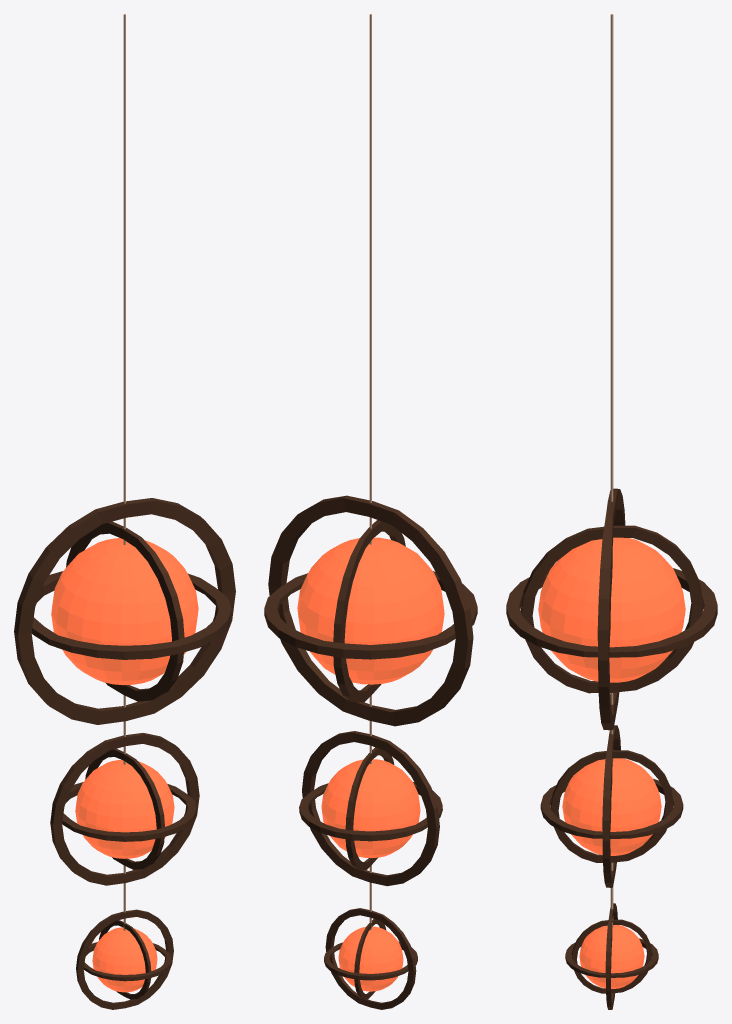
File: Luce 5 Arancio .fbx
The picture shows the model from 3 angles, left to right: view 1: azimuth 30°, elevation 25°; view 2: azimuth 150°, elevation 25°; view 3: azimuth 270°, elevation 25°; orthographic projection.
Visible parts, largest first — view 1: Sphere.030; view 2: Sphere.030; view 3: Sphere.030.
Boxes of the visible parts, x1,y1,x2,y2 form: Sphere.030: [14, 14, 235, 1009]; Sphere.030: [264, 14, 477, 1009]; Sphere.030: [506, 14, 717, 1009].
Bounding box in the file's own units: 61.59 × 279 × 54.08.
